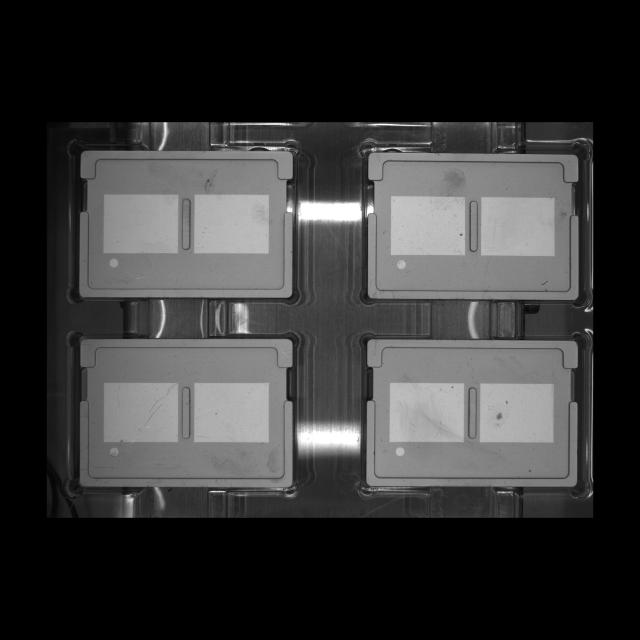product: (358, 137, 590, 311), (67, 328, 303, 496), (358, 330, 589, 498), (70, 140, 300, 308)
